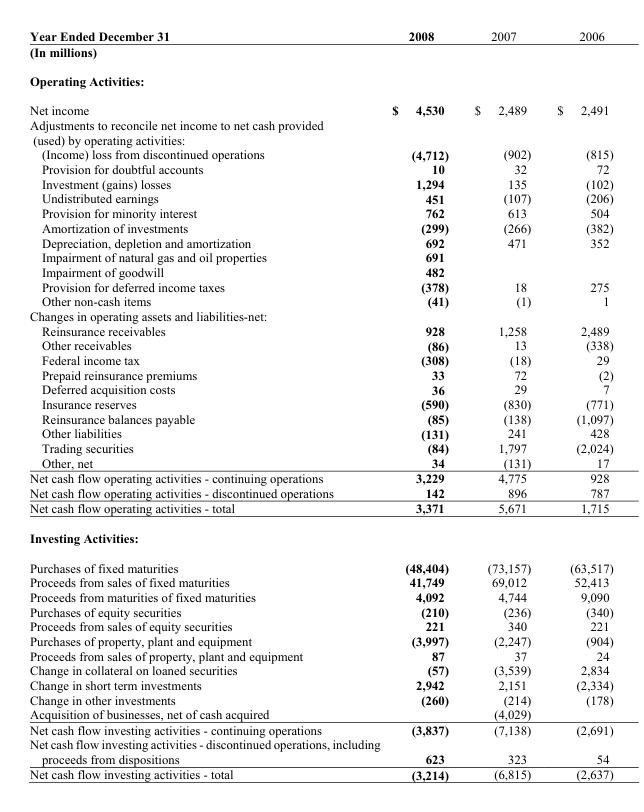table: (28, 28, 612, 781)
table column: (28, 28, 362, 781), (362, 28, 460, 781), (460, 28, 543, 781), (543, 28, 612, 781)
table column header: (28, 28, 612, 43)
table projected row header: (28, 522, 612, 552), (28, 66, 612, 95), (28, 43, 612, 66), (28, 117, 612, 132), (28, 736, 612, 751), (28, 132, 612, 146), (28, 308, 612, 322)
table row: (28, 522, 612, 552), (28, 66, 612, 95), (28, 43, 612, 66), (28, 95, 612, 117), (28, 500, 612, 522), (28, 552, 612, 574), (28, 28, 612, 43), (28, 117, 612, 132), (28, 146, 612, 161), (28, 161, 612, 176), (28, 190, 612, 205), (28, 205, 612, 220), (28, 234, 612, 249), (28, 249, 612, 264), (28, 264, 612, 279), (28, 293, 612, 308), (28, 322, 612, 337), (28, 337, 612, 352), (28, 352, 612, 367), (28, 381, 612, 396), (28, 396, 612, 411), (28, 425, 612, 440), (28, 440, 612, 455), (28, 455, 612, 470), (28, 470, 612, 485), (28, 485, 612, 500), (28, 574, 612, 589), (28, 589, 612, 604), (28, 618, 612, 633), (28, 633, 612, 648), (28, 662, 612, 677), (28, 677, 612, 692), (28, 706, 612, 721), (28, 721, 612, 736), (28, 736, 612, 751), (28, 751, 612, 766), (28, 766, 612, 781), (28, 132, 612, 146), (28, 176, 612, 190), (28, 220, 612, 234), (28, 279, 612, 293), (28, 308, 612, 322), (28, 367, 612, 381), (28, 411, 612, 425), (28, 604, 612, 618), (28, 648, 612, 662), (28, 692, 612, 706)
